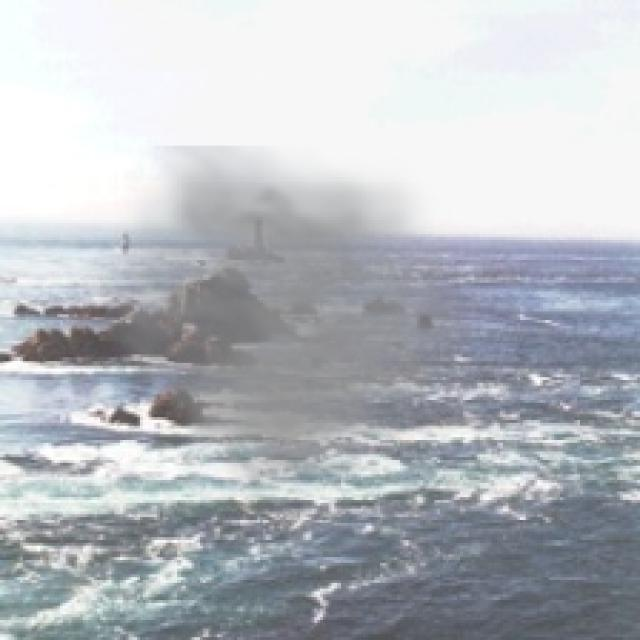Smoke: (74, 145, 494, 526)
